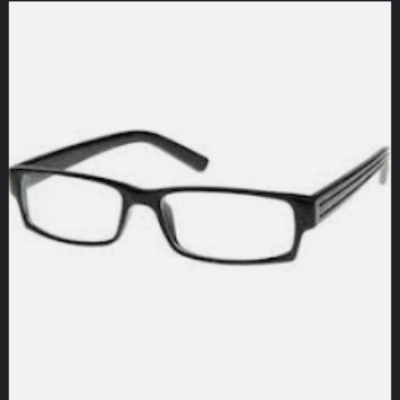glasses: (6, 128, 389, 276)
